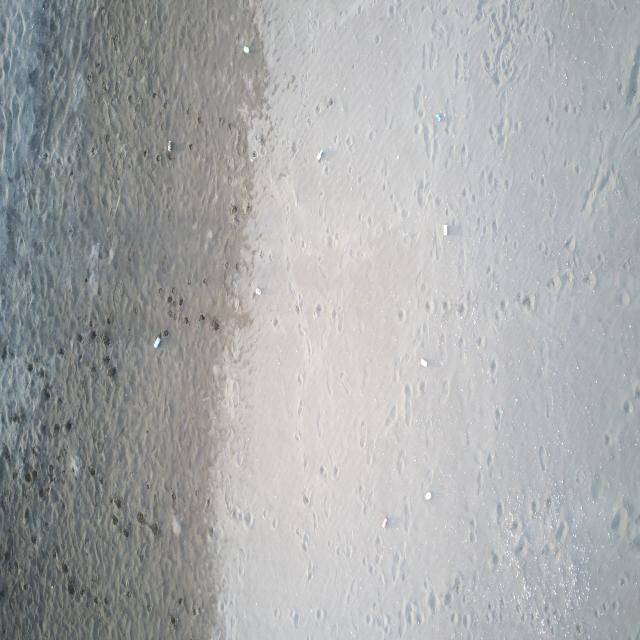Garbage: (433, 112, 444, 121), (152, 335, 160, 347), (316, 149, 324, 160), (380, 516, 387, 527), (442, 223, 448, 235), (424, 491, 432, 500), (420, 357, 427, 367), (243, 44, 249, 54), (167, 140, 172, 151), (255, 287, 260, 295)
